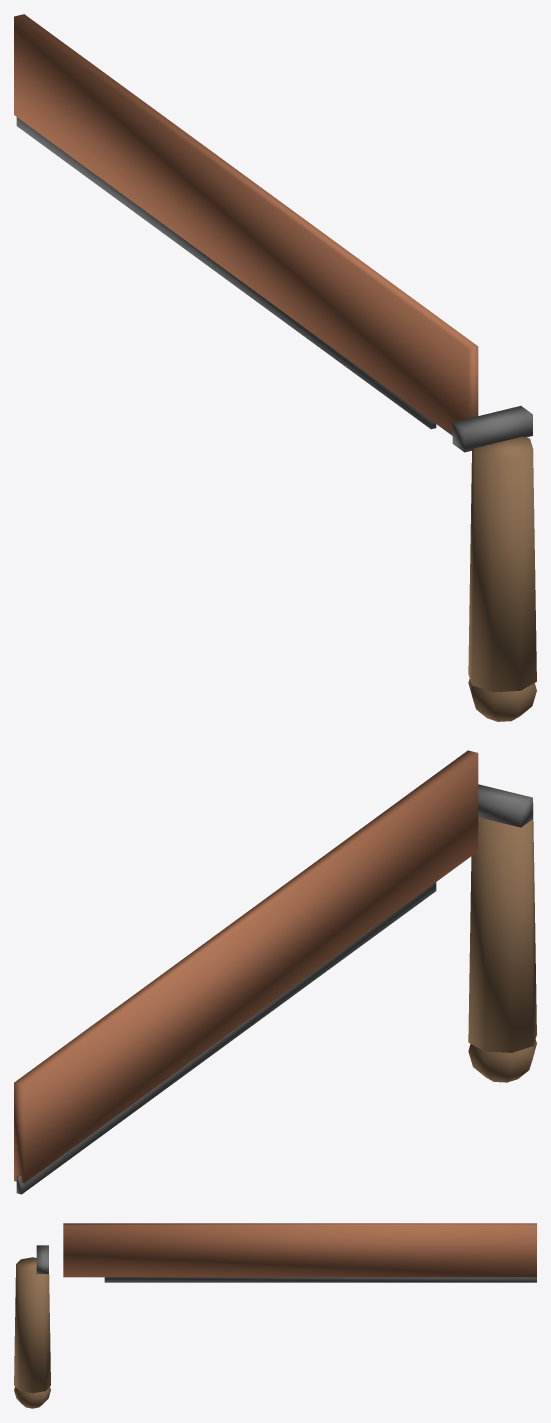
File: char_kit_machete.glb
3 renders of one model, top to bottom at view 1: azimuth 30°, elevation 25°; view 2: azimuth 150°, elevation 25°; view 3: azimuth 270°, elevation 25°, orthographic. The views are drawn at different scales.
Parts seen in each view (by area): view 1: char_kit_machete; view 2: char_kit_machete; view 3: char_kit_machete.
Part boxes in pixels (<box>): char_kit_machete: <box>14,14,536,721</box>; char_kit_machete: <box>14,750,536,1194</box>; char_kit_machete: <box>14,1223,536,1408</box>.
Bounding box in the file's own units: 0.04 × 0.1955 × 0.508.
